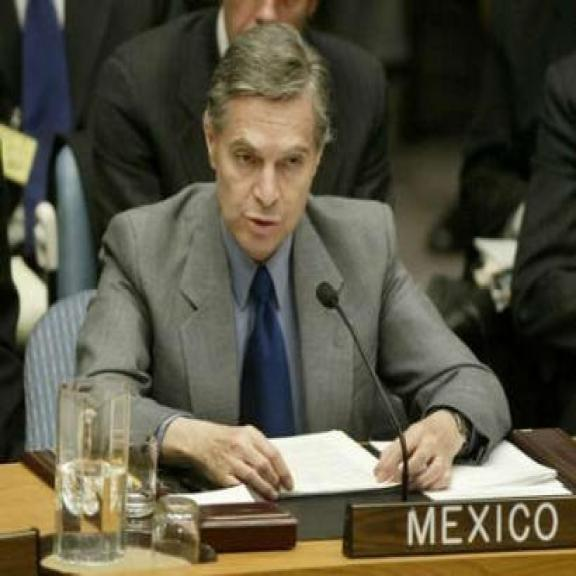face: (198, 34, 333, 257)
